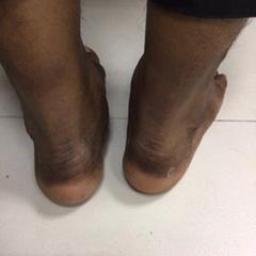Back View -Both Feet-: (8, 30, 234, 216)
